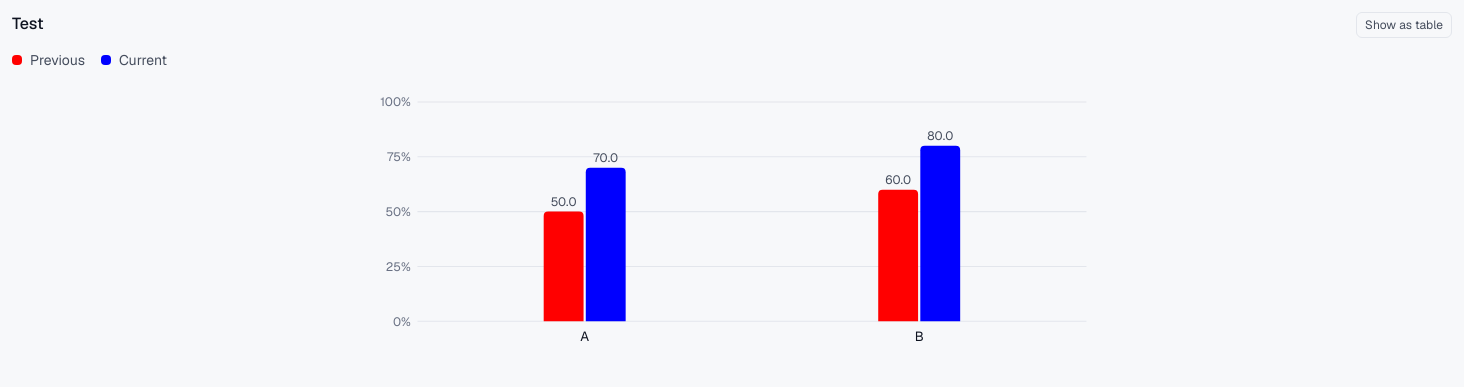
Test case: charts › every chart has a table view with the exact values
Click the button "Show as table" at (1404, 25), box left=1356, top=12, right=1452, bottom=38
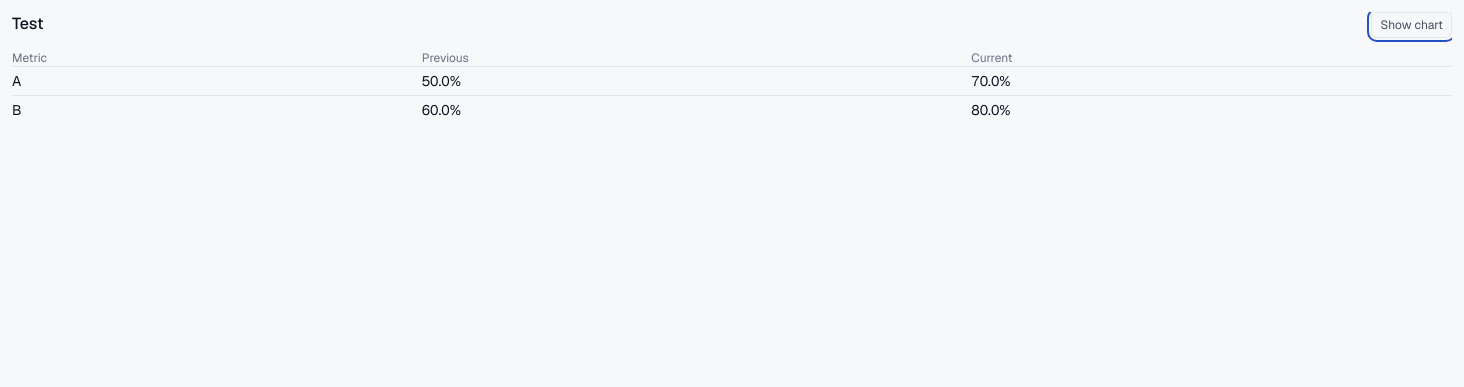
Result: the table shows "70.0%" at left=971, top=72, right=1011, bottom=90
Result: the table shows "60.0%" at left=422, top=101, right=461, bottom=119
